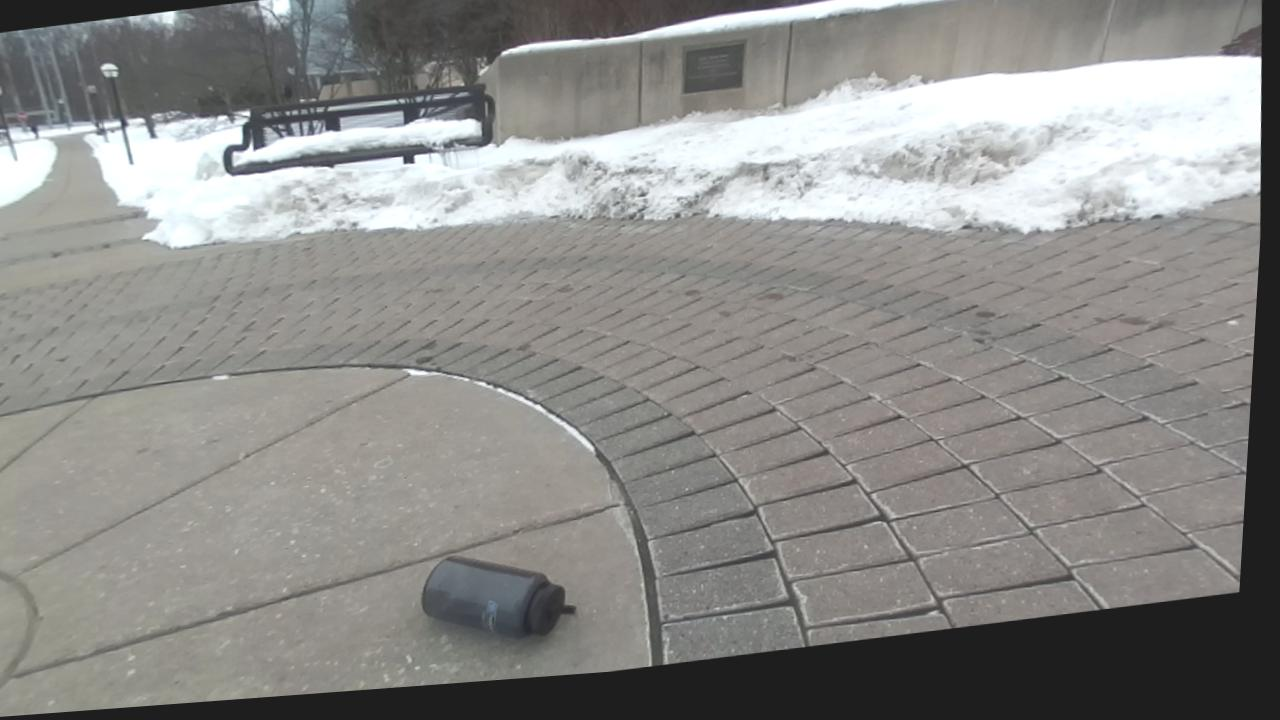bottle: (423, 556, 575, 636)
